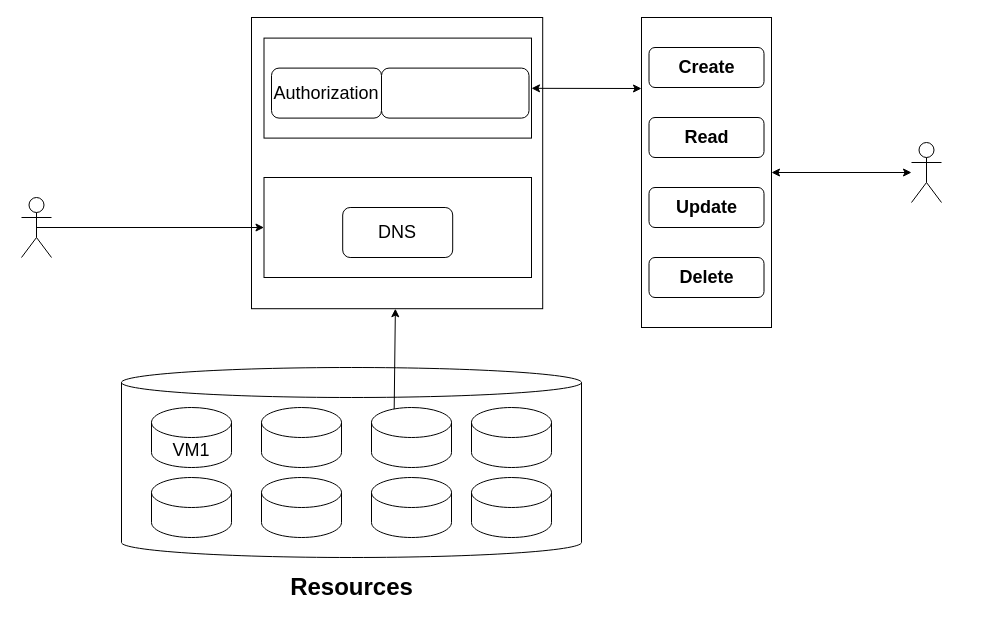
This 984x625 diagram has some shape labels left out. Each missing label, with the centre of its shape:
"Developer" goes at point (926, 172).
"Request Validation" goes at point (454, 92).
"User" goes at point (36, 227).
